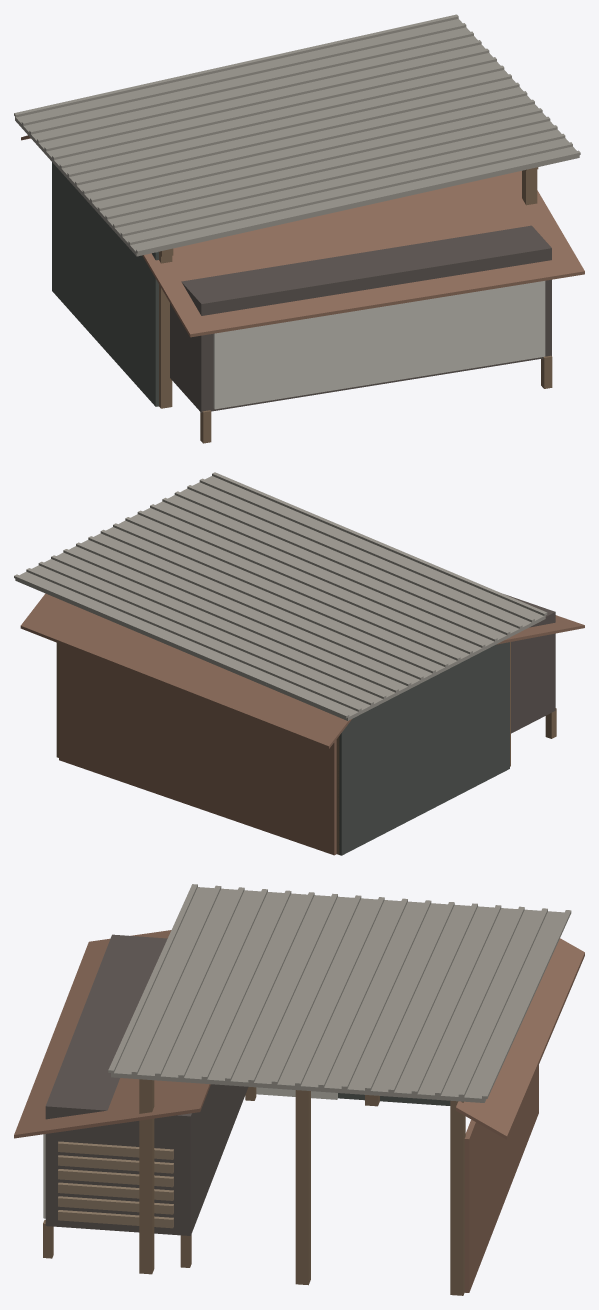
Rendered from rares_poultry_house.glb.
3 views of the same model, one above another, from view 1: azimuth 30°, elevation 25°; view 2: azimuth 150°, elevation 25°; view 3: azimuth 270°, elevation 25° (orthographic). The views are drawn at different scales.
Parts seen in each view (by area): view 1: Main_Roof_Deck, Coop_Roof, Coop_South_Panel, Coop_Box, West_Rear_Net, Main_Roof_Rib_10, Main_Roof_Rib_12, Main_Roof_Rib_2, Main_Roof_Rib_4, Main_Roof_Rib_0, Main_Roof_Rib_3, Main_Roof_Rib_6 (+11 smaller); view 2: Main_Roof_Deck, North_GI_Wall, West_Rear_Net, North_LeanTo_Roof, Coop_Box, Main_Roof_Rib_12, Main_Roof_Rib_1, Main_Roof_Rib_3, Main_Roof_Rib_4, Main_Roof_Rib_6, Main_Roof_Rib_14, Main_Roof_Rib_16 (+11 smaller); view 3: Main_Roof_Deck, Coop_Box, Coop_Roof, North_LeanTo_Roof, North_GI_Wall, Post_E_1, Post_E_0, Post_E_2, Main_Roof_Rib_7, Main_Roof_Rib_4, Main_Roof_Rib_1, Main_Roof_Rib_10 (+20 smaller).
Part boxes in pixels (x1,y1,x2,y2): Main_Roof_Deck: (15,19,579,256); Coop_Roof: (142,171,584,337); Coop_South_Panel: (213,281,545,409); Coop_Box: (170,225,551,412); West_Rear_Net: (52,162,158,406); Main_Roof_Rib_10: (59,65,504,168); Main_Roof_Rib_12: (44,48,489,151); Main_Roof_Rib_2: (120,133,565,236); Main_Roof_Rib_4: (105,116,550,219); Main_Roof_Rib_0: (136,150,580,253); Main_Roof_Rib_3: (113,125,557,227); Main_Roof_Rib_6: (90,99,534,202); Main_Roof_Deck: (15,476,545,720); North_GI_Wall: (59,643,336,855); West_Rear_Net: (339,642,509,855); North_LeanTo_Roof: (20,593,351,748); Coop_Box: (504,594,555,733); Main_Roof_Rib_12: (63,549,398,692); Main_Roof_Rib_1: (199,478,534,622); Main_Roof_Rib_3: (174,491,510,635); Main_Roof_Rib_4: (162,497,497,641); Main_Roof_Rib_6: (137,510,472,654); Main_Roof_Rib_14: (38,561,373,705); Main_Roof_Rib_16: (14,574,349,718); Main_Roof_Deck: (111,887,564,1102); Coop_Box: (45,934,248,1235); Coop_Roof: (14,930,210,1138); North_LeanTo_Roof: (456,938,584,1139); North_GI_Wall: (464,1065,538,1292); Post_E_1: (295,1090,310,1285); Post_E_0: (139,1079,154,1274); Post_E_2: (450,1100,465,1295); Main_Roof_Rib_7: (271,895,361,1084); Main_Roof_Rib_4: (201,890,291,1079); Main_Roof_Rib_1: (131,885,221,1074); Main_Roof_Rib_10: (341,900,431,1089).
Size of the model in its own units: 6.1 by 2.56 by 6.05.
